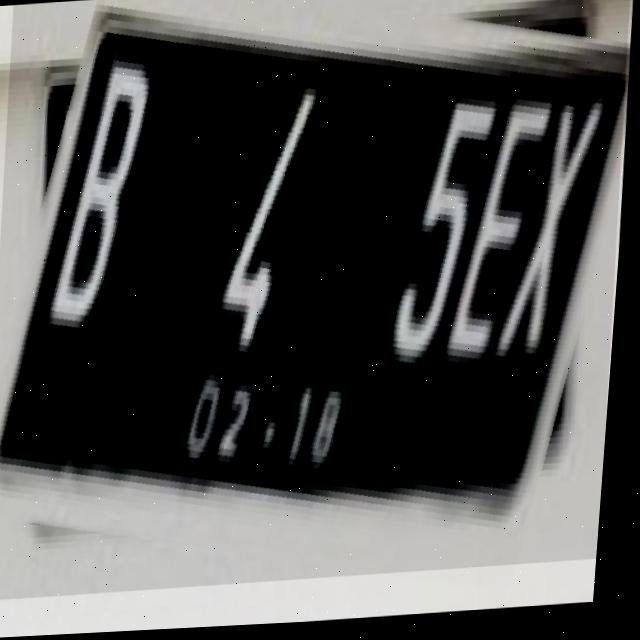LicensePlate: (0, 0, 640, 601)
